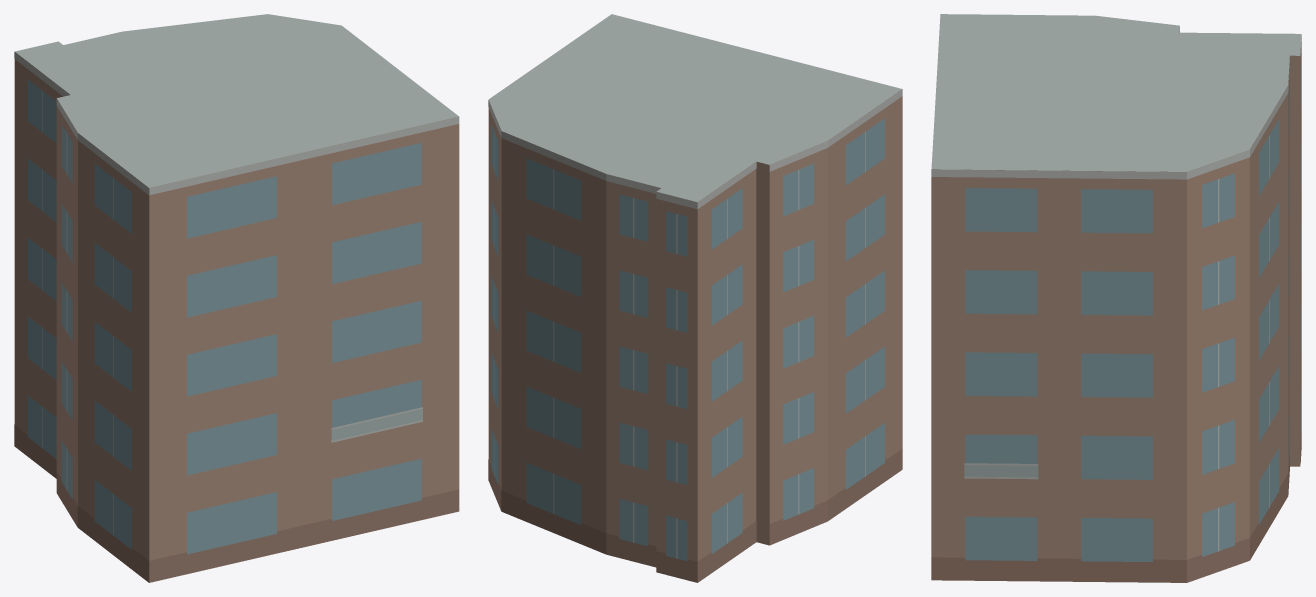
The model's file is survey-upis-32737281.glb.
The picture shows the model from 3 angles, left to right: view 1: azimuth 30°, elevation 25°; view 2: azimuth 150°, elevation 25°; view 3: azimuth 270°, elevation 25°; orthographic projection. The views are drawn at different scales.
Parts seen in each view (by area): view 1: survey-upis-32737281.tmp; view 2: survey-upis-32737281.tmp; view 3: survey-upis-32737281.tmp.
Part boxes in pixels (left/top/right/bottom): survey-upis-32737281.tmp: left=14, top=14, right=459, bottom=582; survey-upis-32737281.tmp: left=488, top=14, right=902, bottom=582; survey-upis-32737281.tmp: left=931, top=14, right=1301, bottom=582.
Size of the model in its own units: 10.89 by 13.2 by 10.79.
